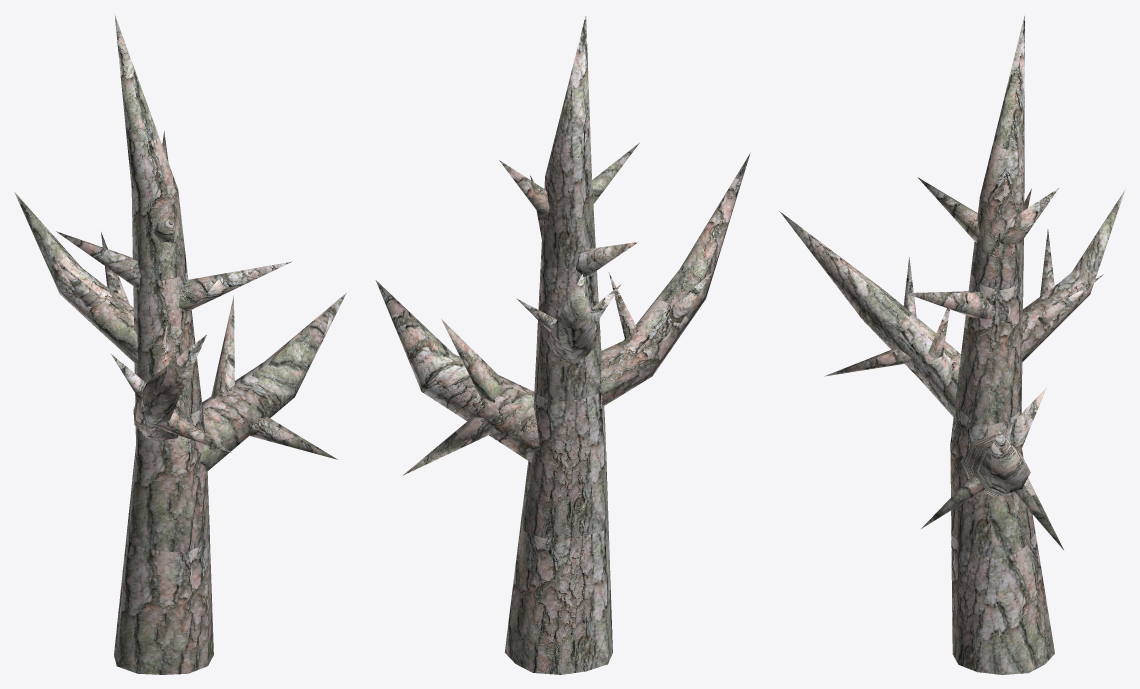
Rendered from Wood1.gltf.
3 renders of one model, left to right at view 1: azimuth 30°, elevation 25°; view 2: azimuth 150°, elevation 25°; view 3: azimuth 270°, elevation 25°, orthographic. The views are drawn at different scales.
Parts seen in each view (by area): view 1: Circle_Circle.001; view 2: Circle_Circle.001; view 3: Circle_Circle.001.
Part boxes in pixels (left/top/right/bottom): Circle_Circle.001: left=14, top=14, right=346, bottom=674; Circle_Circle.001: left=375, top=15, right=750, bottom=674; Circle_Circle.001: left=779, top=14, right=1125, bottom=674.
Bounding box in the file's own units: 6.41 × 13.89 × 7.
1 material, 1 textured.
